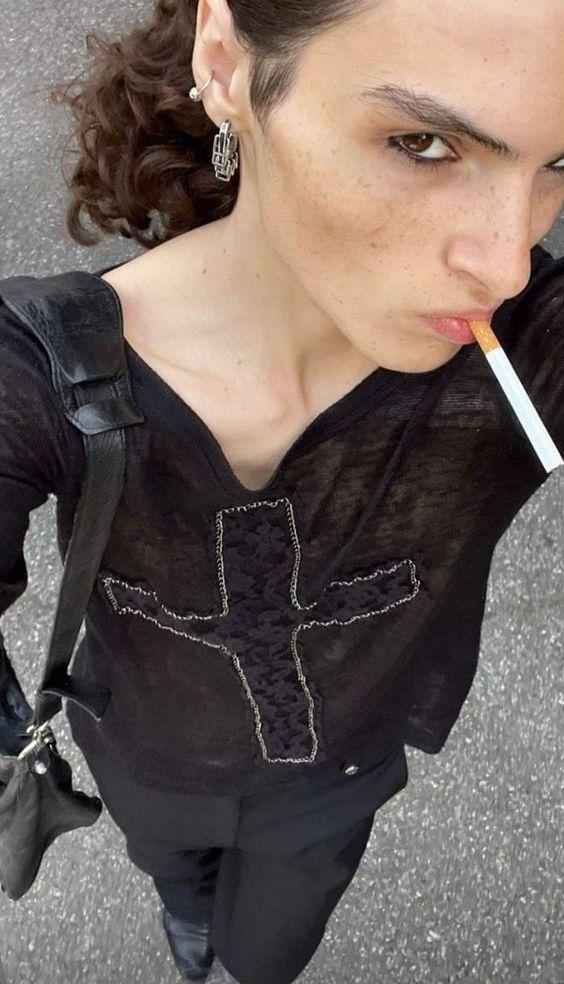cigarette: (467, 320, 564, 474)
